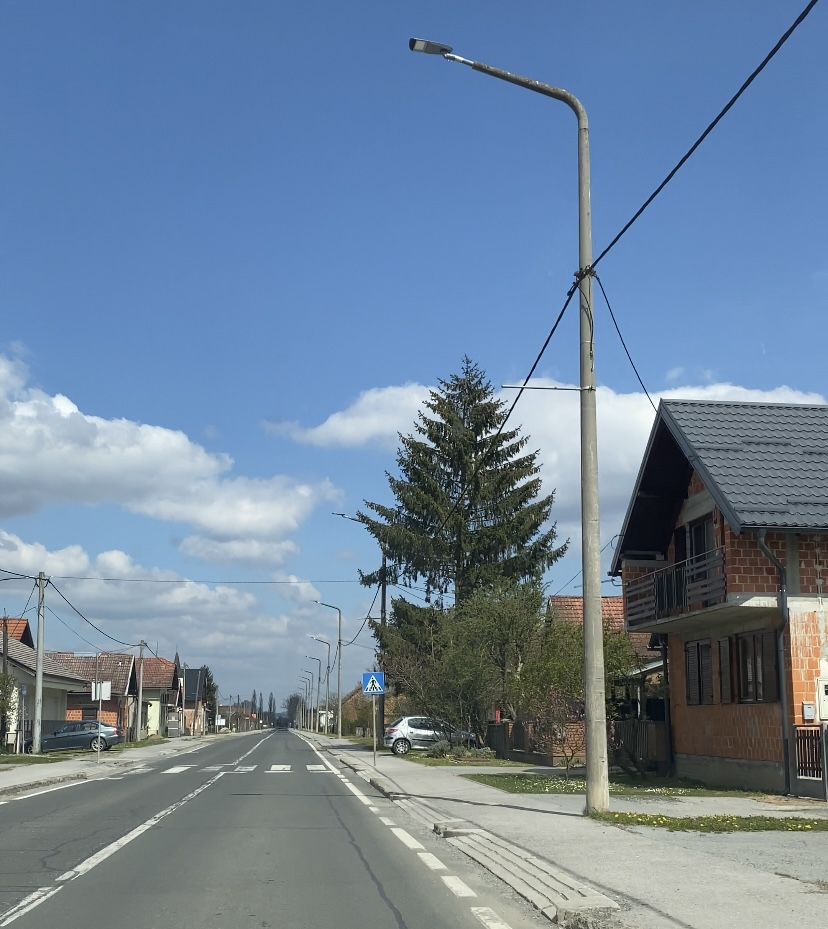Pješački prijelaz: (362, 672, 384, 693)
